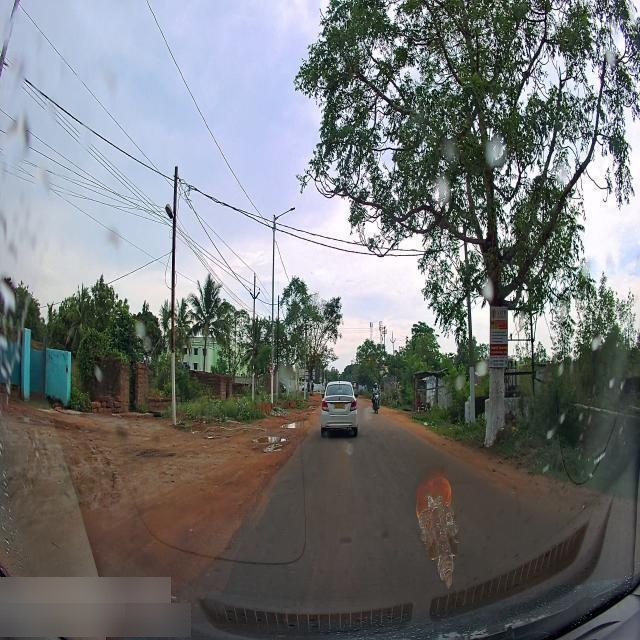pothole: (250, 428, 288, 442), (274, 417, 308, 430), (257, 442, 283, 455)
